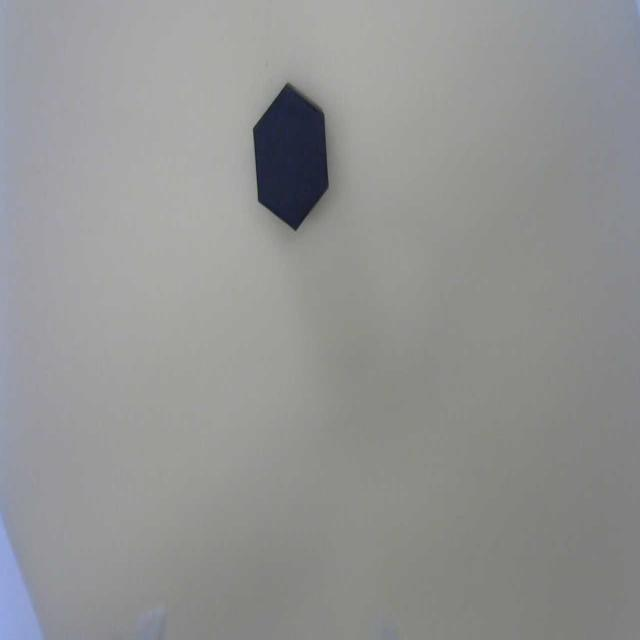hexagon: (250, 78, 331, 239)
